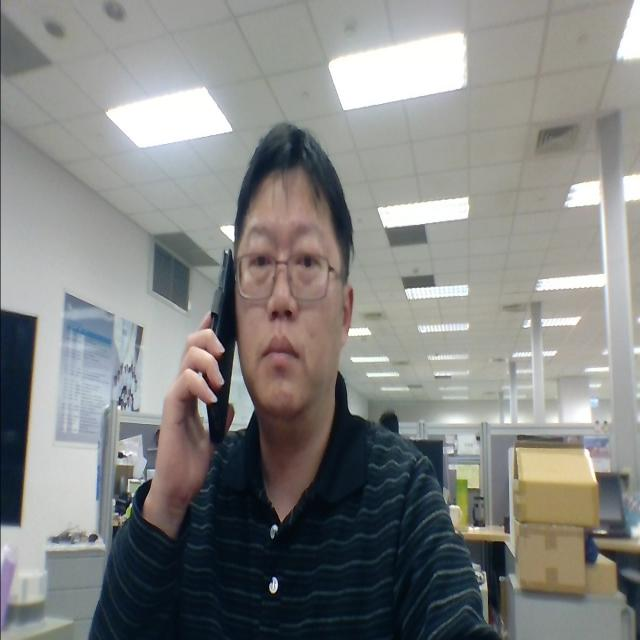phone: (174, 236, 246, 458)
